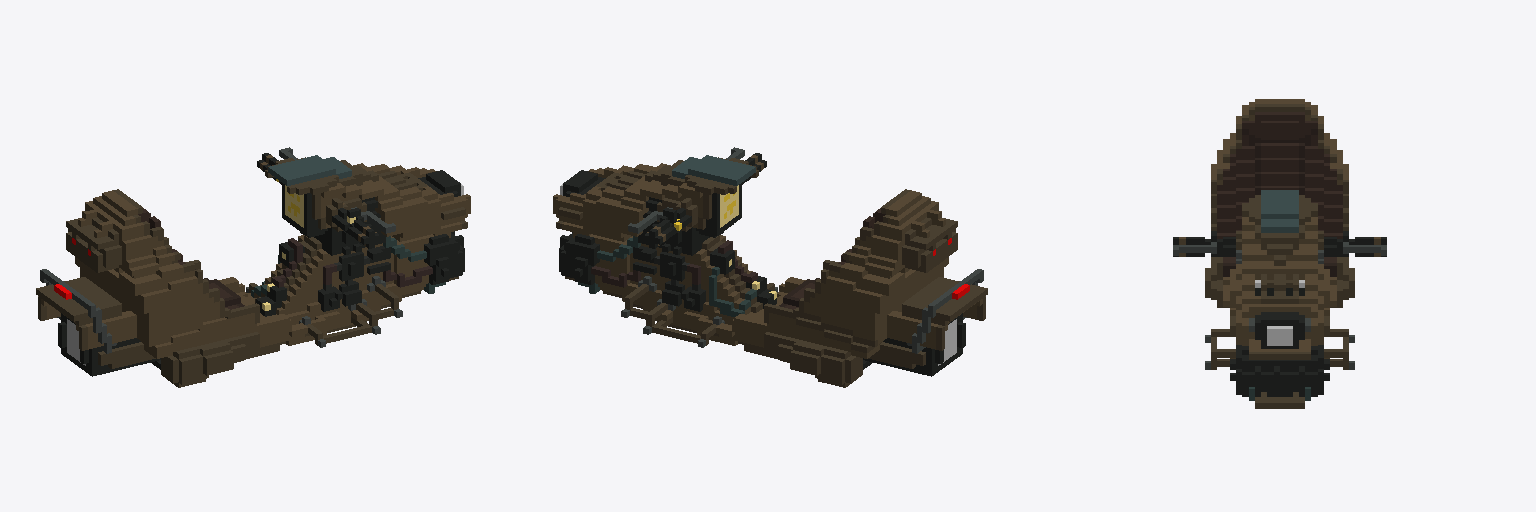
3 renders of one model, left to right at view 1: azimuth 30°, elevation 25°; view 2: azimuth 150°, elevation 25°; view 3: azimuth 270°, elevation 25°, orthographic.
Visible parts, largest first — view 1: Scooter; view 2: Scooter; view 3: Scooter.
Boxes of the visible parts, <box> form: Scooter: <box>36,147,470,387</box>; Scooter: <box>553,147,987,387</box>; Scooter: <box>1173,99,1386,408</box>.
Bounding box in the file's own units: 7.4 × 3.1 × 3.4.
2 materials, 1 textured.